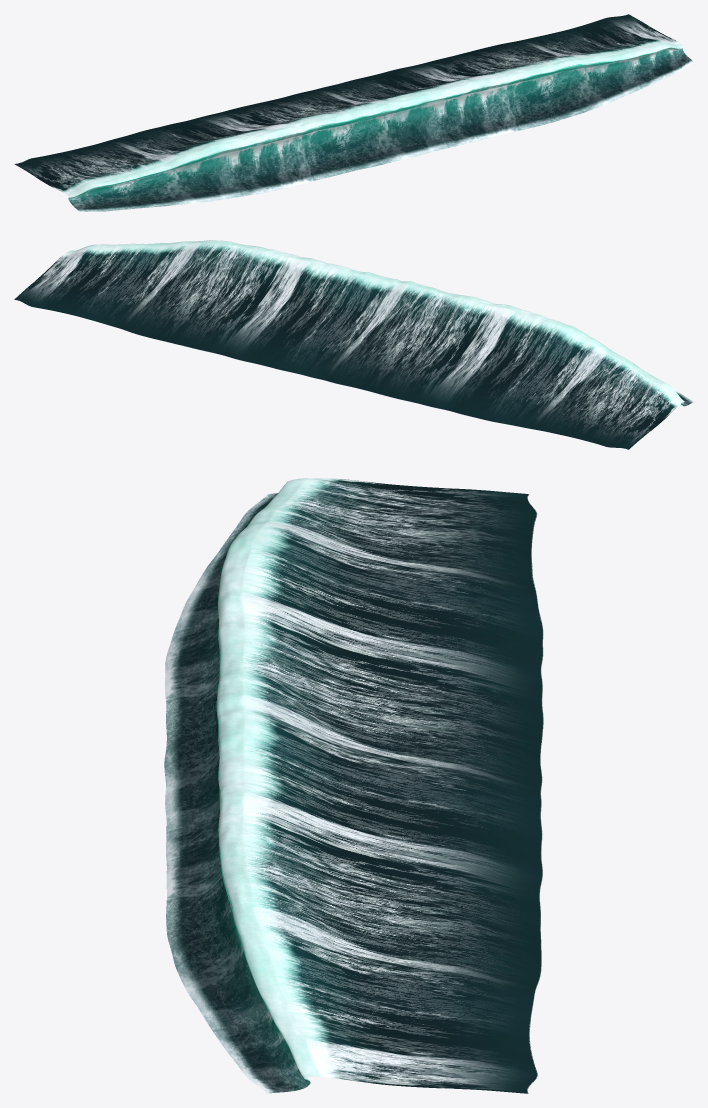
File: wave_body.glb
The picture shows the model from 3 angles, top to bottom: view 1: azimuth 30°, elevation 25°; view 2: azimuth 150°, elevation 25°; view 3: azimuth 270°, elevation 25°; orthographic projection. The views are drawn at different scales.
Size of the model in its own units: 601 by 41 by 160.
1 material, 1 textured.
